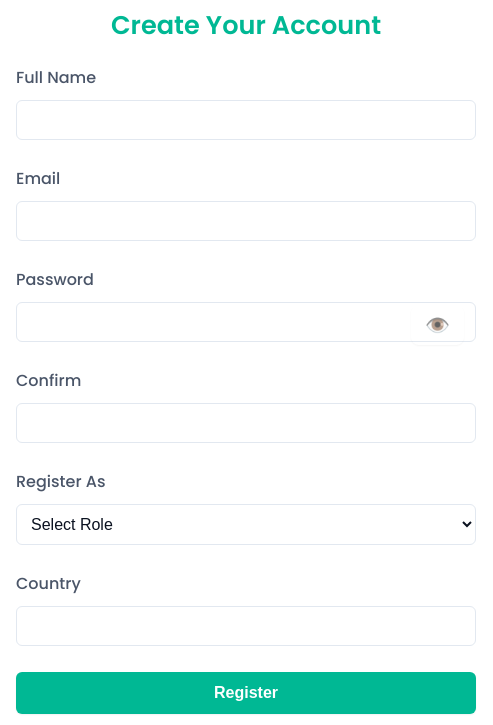
RegisterPage (customer) › shows multiple field-specific errors from backend
Type "Test User" into the field labelled "Full Name" at (246, 120), box [16, 100, 476, 140]
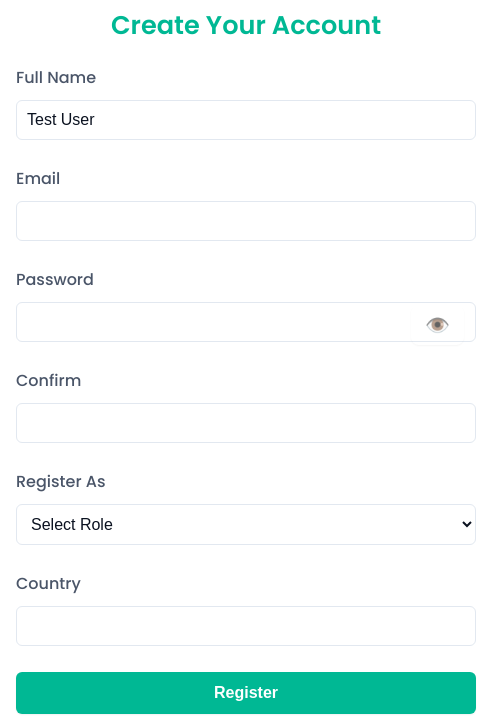
Type "test@example.com" into the field labelled "Email" at (246, 221), box [16, 201, 476, 241]
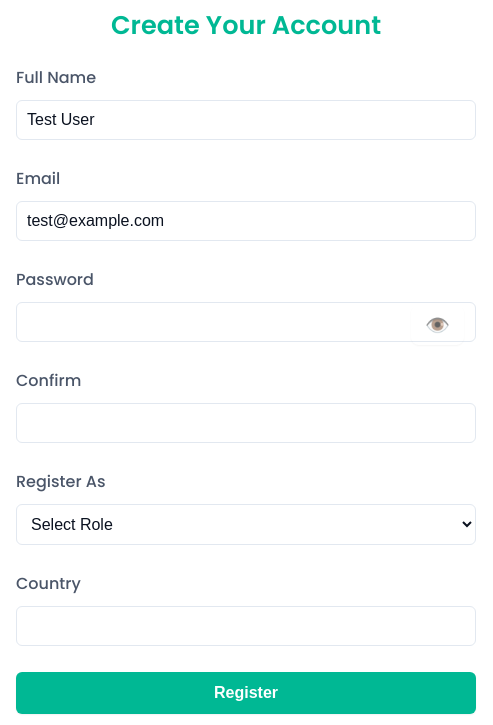
Type "password123" into the password field labelled "Password" at (246, 322), box [16, 302, 476, 342]
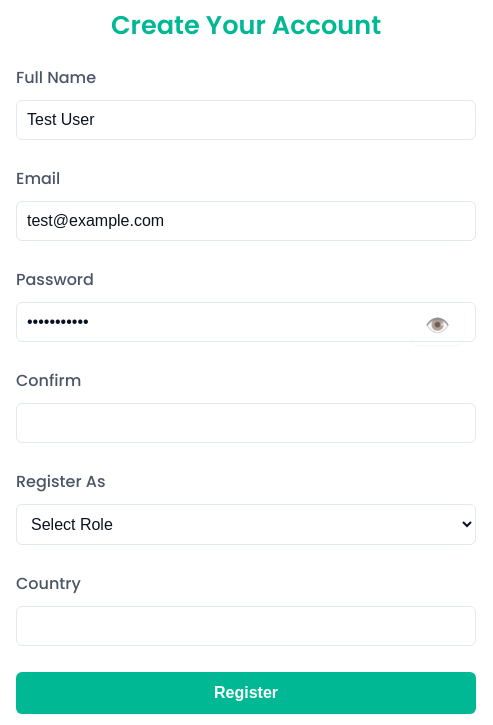
Type "Ethiopia" into the field labelled "Country" at (246, 626), box [16, 606, 476, 646]
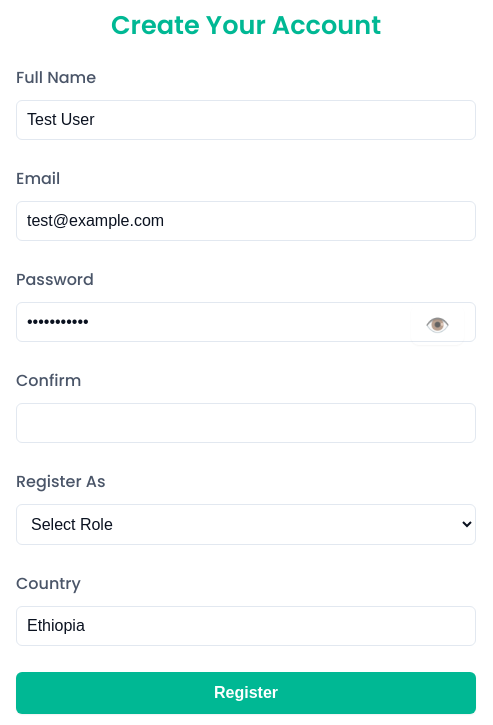
Select "Customer (Buyer)" in the dropdown labelled "Register As" at (246, 524), box [16, 504, 476, 545]
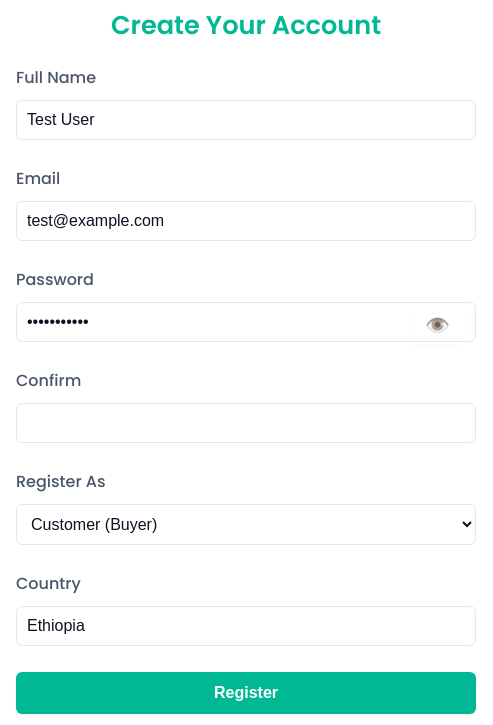
Click the button "Register" at (246, 693), box [16, 672, 476, 714]
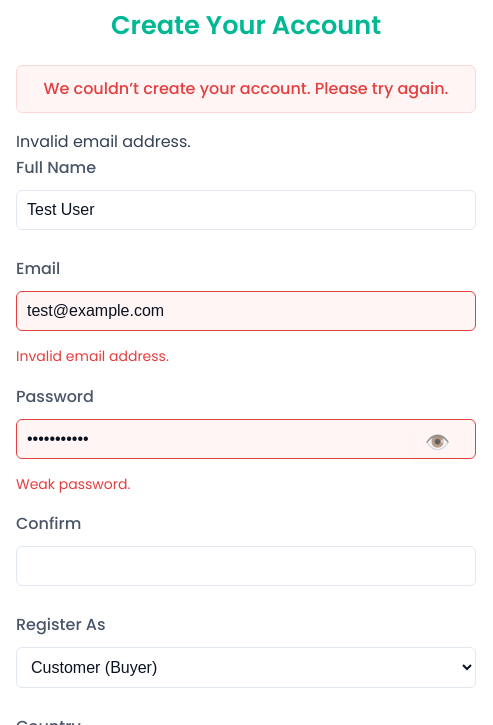
Now the text with test id "email-error" shows "Invalid email address", box [16, 346, 169, 366]
Now the text "Weak password." is shown, box [16, 474, 130, 494]
